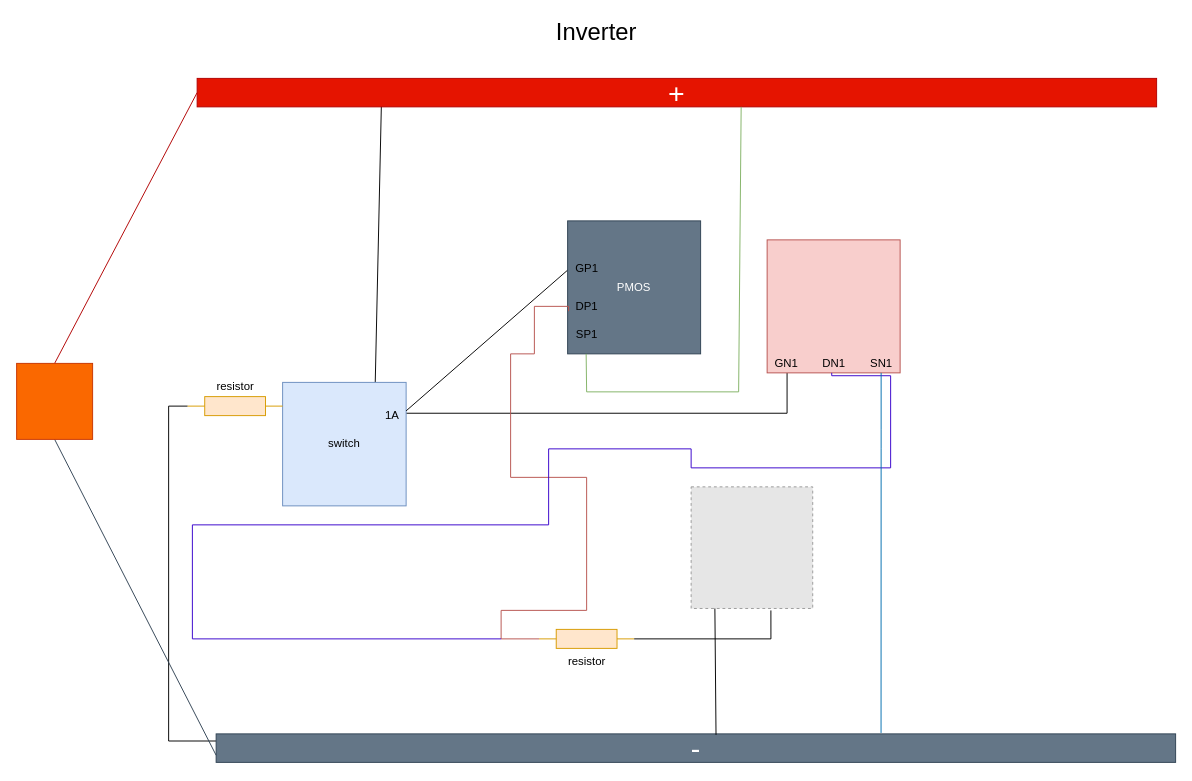
The diagram is 1192 pixels wide and 781 high, and some of its shapes have lost their labels. Grey dashed boxes stand in for pictures. The shapes that lost their labels are listed below. From the top down, each one's box as (x1, y1, x2, y2) in pixels, then its label:
(766, 239, 900, 373): NMOS
(16, 362, 93, 439): Power Supply
